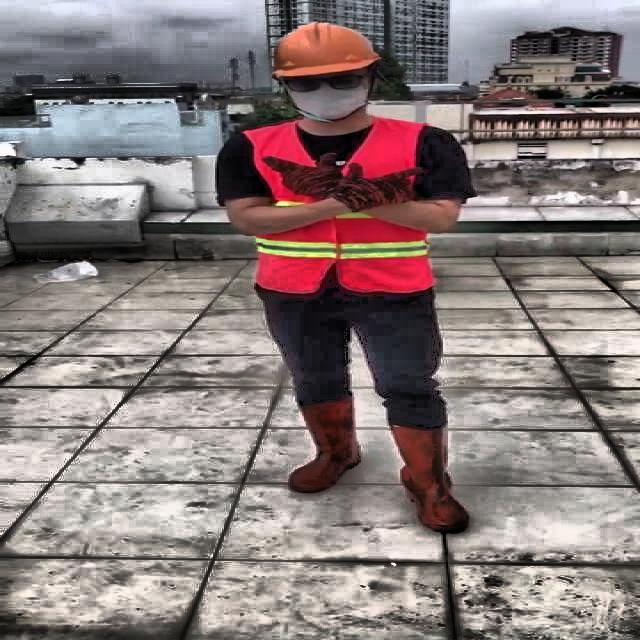safety_helmet: (264, 22, 386, 81)
safety_jacket: (242, 120, 436, 295)
